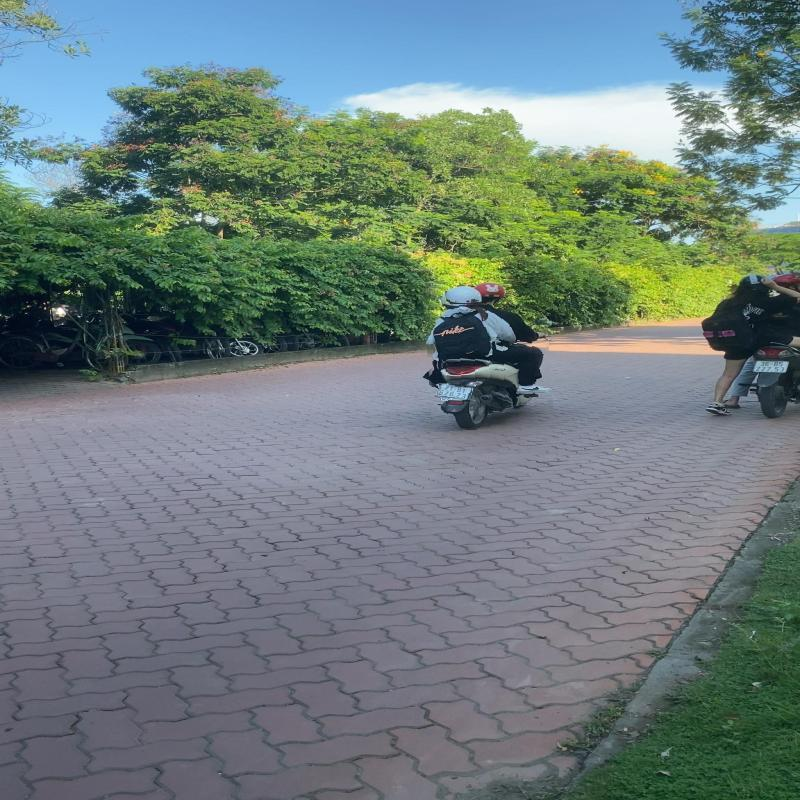helmet: (445, 285, 483, 304), (476, 282, 507, 298)
licenseplate: (438, 384, 472, 399)
motorcyclist: (426, 281, 552, 430)
